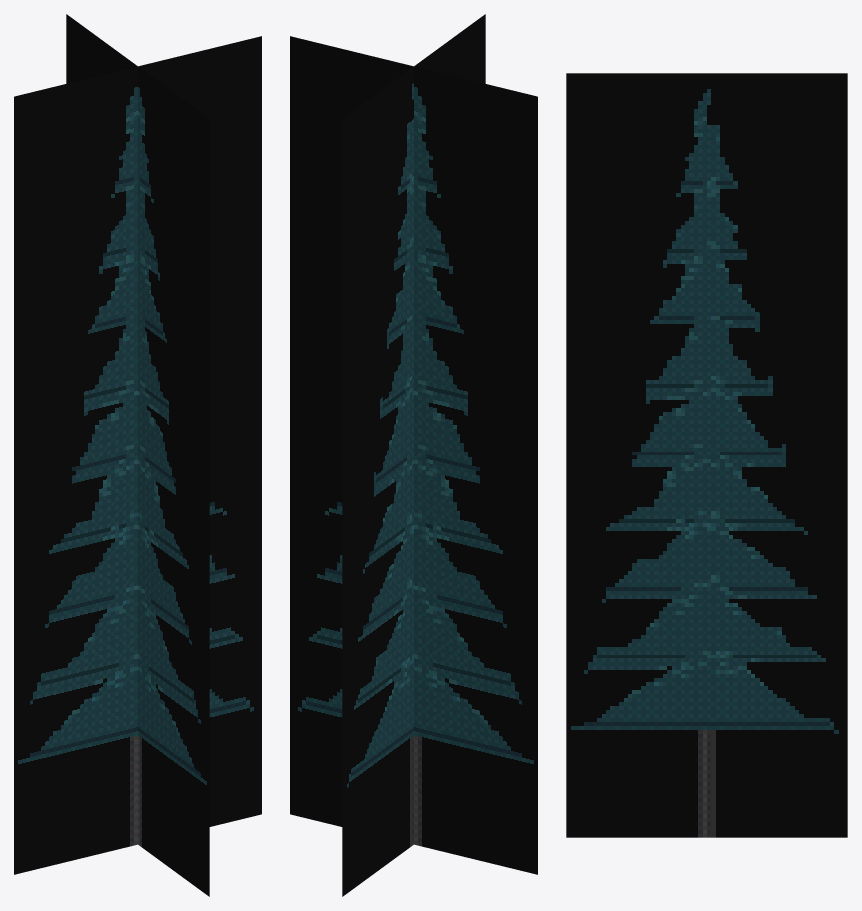
The model's file is lot_cedar_card.glb.
3 renders of one model, left to right at view 1: azimuth 30°, elevation 25°; view 2: azimuth 150°, elevation 25°; view 3: azimuth 270°, elevation 25°, orthographic.
Parts seen in each view (by area): view 1: lot_cedar_card; view 2: lot_cedar_card; view 3: lot_cedar_card.
Part boxes in pixels (x1,y1,x2,y2): lot_cedar_card: [14, 14, 261, 896]; lot_cedar_card: [290, 14, 537, 896]; lot_cedar_card: [566, 73, 847, 837].
Bounding box in the file's own units: 3.67 × 11 × 3.67.
1 material, 1 textured.
